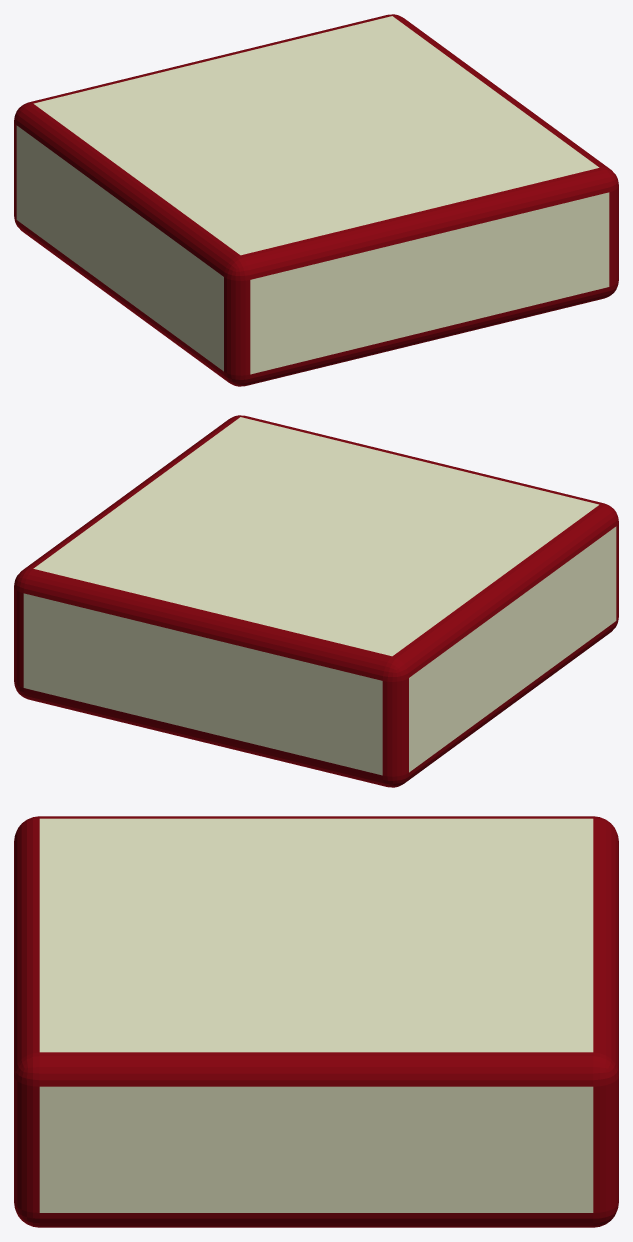
Rendered from Moving Platform.fbx.
The picture shows the model from 3 angles, top to bottom: view 1: azimuth 30°, elevation 25°; view 2: azimuth 150°, elevation 25°; view 3: azimuth 270°, elevation 25°; orthographic projection. The views are drawn at different scales.
Visible parts, largest first — view 1: Cube; view 2: Cube; view 3: Cube.
Boxes of the visible parts, left/top/right/bottom form: Cube: left=14, top=14, right=618, bottom=386; Cube: left=14, top=415, right=618, bottom=787; Cube: left=14, top=816, right=618, bottom=1227.
Bounding box in the file's own units: 200 × 63.1 × 200.
